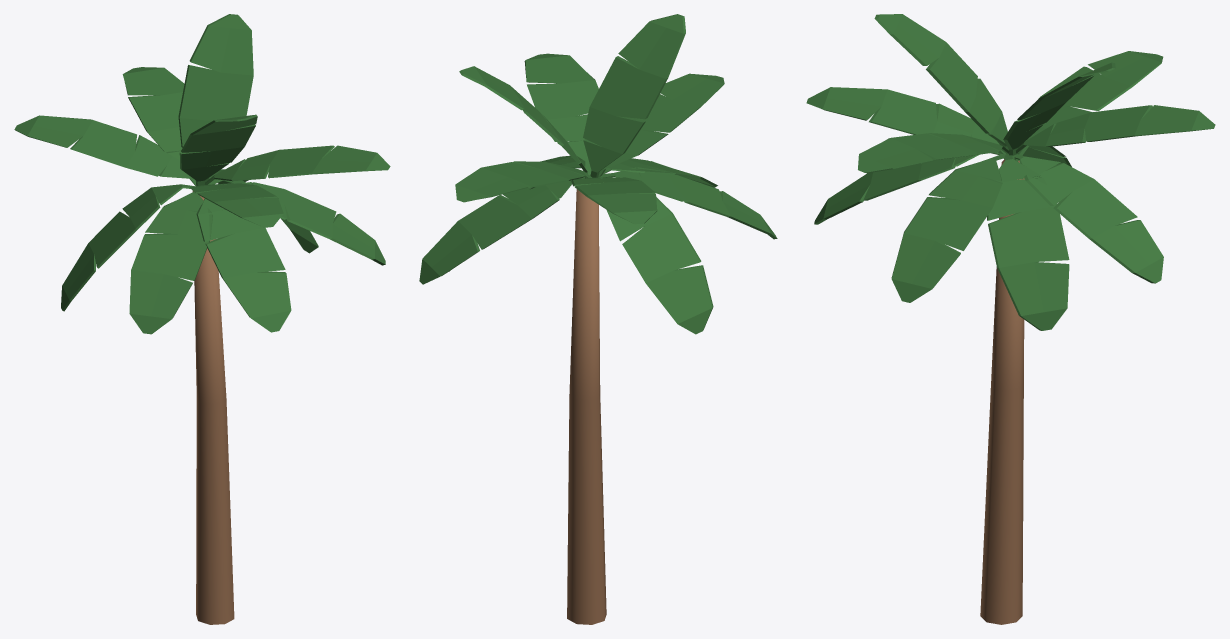
Rendered from coqueiro2.gltf.
3 renders of one model, left to right at view 1: azimuth 30°, elevation 25°; view 2: azimuth 150°, elevation 25°; view 3: azimuth 270°, elevation 25°, orthographic. The views are drawn at different scales.
Parts seen in each view (by area): view 1: Coqueiro 2; view 2: Coqueiro 2; view 3: Coqueiro 2.
Part boxes in pixels (x1,y1,x2,y2): Coqueiro 2: (14,14,390,624); Coqueiro 2: (419,14,777,624); Coqueiro 2: (806,14,1215,624).
Size of the model in its own units: 15.2 by 30.42 by 19.35.
